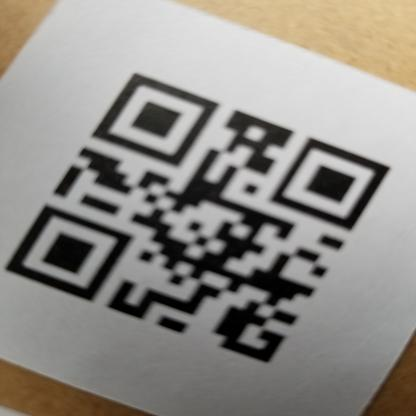qr: (3, 70, 398, 377)
